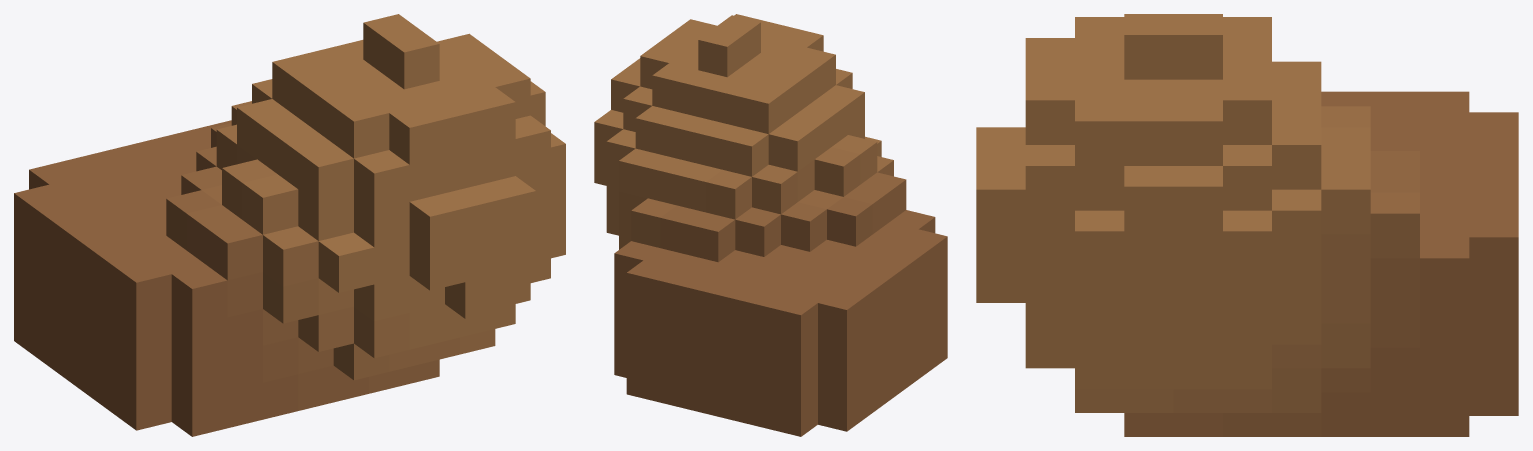
File: 44_voxel_faces.obj
3 renders of one model, left to right at view 1: azimuth 30°, elevation 25°; view 2: azimuth 150°, elevation 25°; view 3: azimuth 270°, elevation 25°, orthographic. The views are drawn at different scales.
Visible parts, largest first — view 1: claycore; view 2: claycore; view 3: claycore.
Part boxes in pixels (x1=…): claycore: x1=14, y1=14, x2=565, y2=436; claycore: x1=594, y1=14, x2=947, y2=436; claycore: x1=976, y1=14, x2=1518, y2=436.
Bounding box in the file's own units: 0.77 × 0.63 × 0.77.
